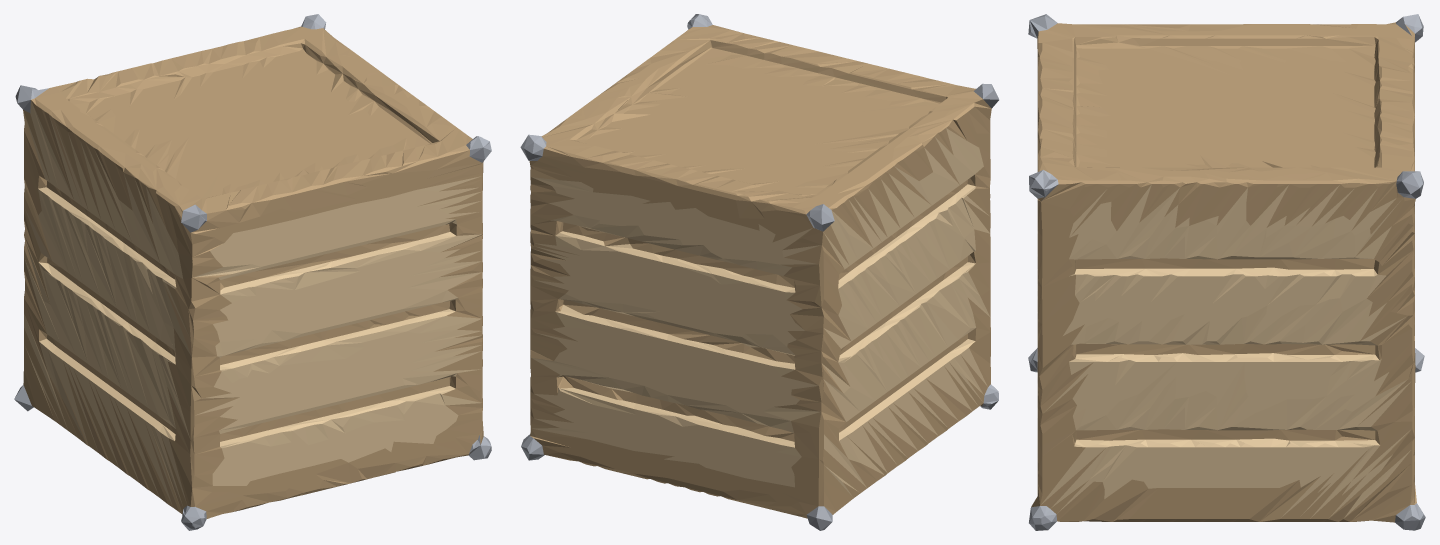
Rendered from crate.glb.
The picture shows the model from 3 angles, left to right: view 1: azimuth 30°, elevation 25°; view 2: azimuth 150°, elevation 25°; view 3: azimuth 270°, elevation 25°; orthographic projection. The views are drawn at different scales.
Visible parts, largest first — view 1: wood-dark, wood, bracket; view 2: wood-dark, wood, bracket; view 3: wood-dark, wood, bracket.
Part boxes in pixels (x1,y1,x2,y2): wood-dark: [23, 26, 483, 518]; wood: [24, 100, 481, 508]; bracket: [14, 14, 491, 530]; wood-dark: [529, 25, 991, 518]; wood: [531, 128, 990, 497]; bracket: [520, 14, 999, 530]; wood-dark: [1031, 22, 1416, 522]; wood: [1037, 184, 1414, 518]; bracket: [1028, 14, 1425, 530].
Size of the model in its own units: 0.8471 by 0.8471 by 0.8433.
